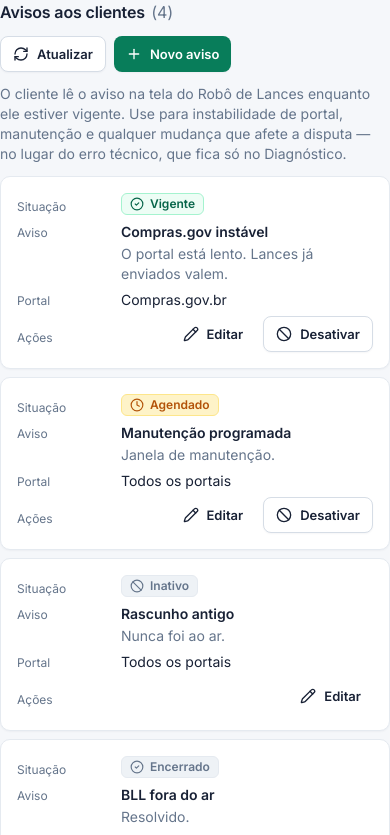
Scenario: formulário de aviso › orienta a escrever para o cliente, sem erro técnico
Expected: the text "Compras.gov instável" is shown, [121,223,268,240]
Click the button "Novo aviso" at [173, 54], box [114,36,232,72]
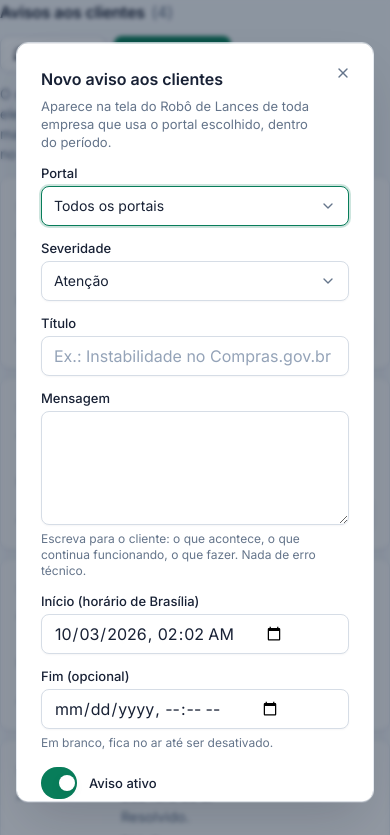
Expected: the dialog is shown
Expected: the text "Escreva para o cliente: o que acontece, o que continua funcionando, o que fazer. Nada de erro técnico." is shown, [41,531,316,578]
